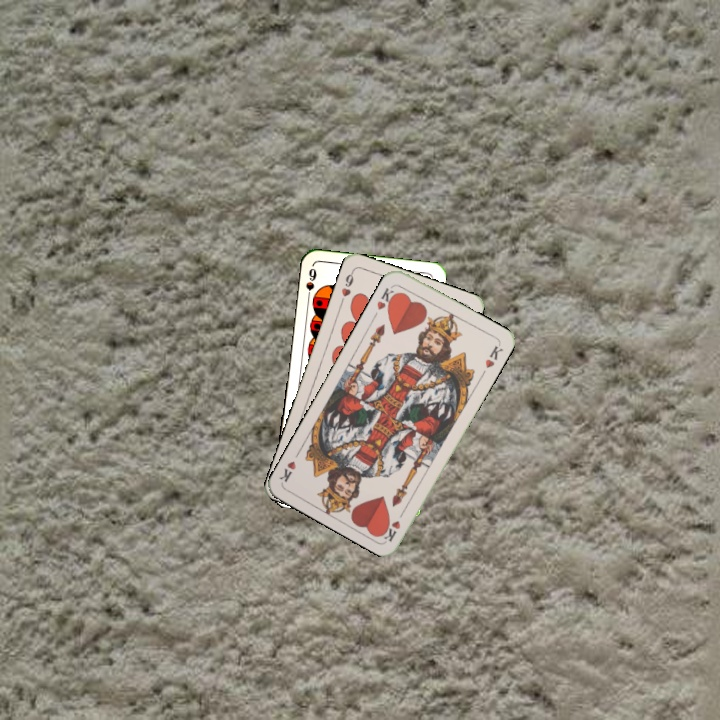H9: (336, 267, 356, 306)
HK: (380, 505, 408, 544), (373, 282, 400, 313)
S9: (302, 264, 319, 304)
